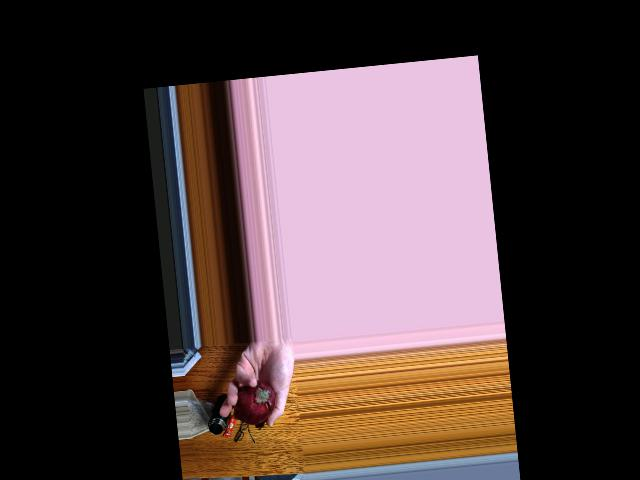onion: (235, 379, 277, 422)
